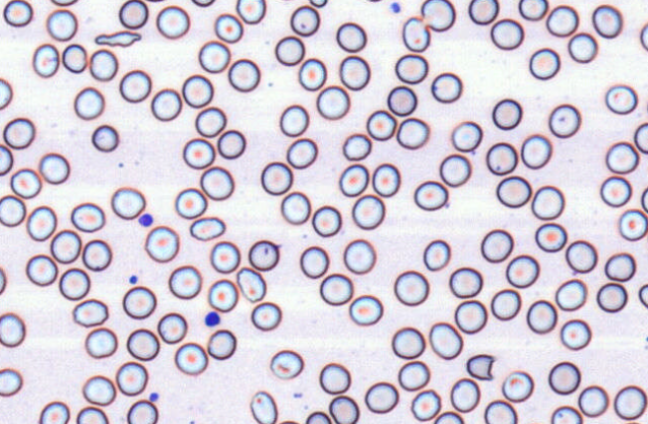PLT: (204, 312, 222, 328), (137, 212, 154, 227), (129, 272, 140, 285), (389, 4, 401, 15), (150, 392, 161, 402)
RBC: (144, 225, 179, 262), (428, 322, 462, 359), (393, 270, 428, 305), (613, 384, 647, 420), (199, 166, 234, 200), (505, 254, 539, 288), (122, 285, 156, 319), (351, 194, 384, 229), (531, 185, 564, 220), (115, 361, 148, 396), (548, 103, 581, 138), (495, 175, 531, 207), (343, 238, 375, 274), (454, 299, 487, 333), (391, 326, 425, 359), (227, 58, 260, 92), (156, 5, 189, 39), (316, 85, 349, 119), (480, 228, 513, 262), (605, 141, 639, 174), (111, 186, 145, 219), (168, 265, 201, 299), (545, 4, 578, 37), (174, 342, 207, 375), (364, 381, 398, 413), (490, 18, 524, 50), (181, 74, 213, 108), (439, 153, 471, 187), (319, 273, 353, 305), (260, 161, 292, 195), (485, 141, 517, 175), (565, 239, 597, 273), (420, 0, 455, 31), (520, 134, 551, 169), (339, 55, 370, 90), (236, 266, 266, 302), (26, 205, 56, 241), (449, 266, 482, 298), (119, 69, 151, 102), (548, 361, 580, 394), (182, 137, 215, 169), (58, 267, 90, 300), (150, 88, 182, 121), (198, 40, 230, 73), (2, 117, 35, 149), (396, 117, 429, 149), (555, 278, 587, 311), (126, 328, 159, 360), (526, 299, 557, 333), (348, 294, 382, 325), (394, 53, 428, 84), (591, 4, 622, 38), (207, 278, 238, 312), (50, 229, 81, 263), (450, 377, 480, 412), (413, 180, 448, 210), (401, 16, 430, 52), (72, 298, 108, 327), (501, 370, 533, 402), (25, 254, 57, 286), (600, 175, 632, 207), (397, 360, 430, 391), (338, 163, 369, 196), (174, 187, 207, 218), (46, 8, 77, 41), (529, 47, 560, 80), (84, 327, 117, 358), (73, 86, 104, 119), (209, 240, 240, 273), (82, 375, 116, 405), (269, 349, 303, 379), (70, 202, 104, 232), (371, 162, 400, 197), (410, 389, 441, 421), (319, 362, 350, 394), (490, 288, 521, 320), (560, 318, 591, 350), (194, 106, 226, 137), (248, 239, 279, 271), (577, 385, 608, 417), (430, 72, 462, 103), (38, 152, 69, 184), (451, 120, 482, 152), (491, 98, 522, 130), (280, 191, 310, 224), (534, 222, 567, 252), (299, 245, 329, 278), (386, 85, 417, 116), (286, 137, 317, 168), (279, 104, 309, 136), (605, 84, 637, 114), (618, 208, 647, 241), (89, 48, 118, 81), (298, 57, 326, 91), (10, 168, 41, 198), (366, 109, 396, 140), (567, 32, 597, 63), (290, 5, 320, 36), (336, 21, 366, 52), (311, 205, 341, 236), (157, 312, 187, 343), (596, 282, 627, 312), (604, 252, 636, 281), (82, 239, 111, 271), (249, 390, 277, 423), (32, 43, 59, 77), (189, 216, 225, 241), (274, 35, 304, 65), (250, 301, 281, 330), (0, 312, 25, 347), (214, 13, 243, 43), (118, 0, 148, 29), (216, 129, 245, 159), (207, 329, 236, 359), (328, 395, 359, 423), (422, 239, 450, 270), (0, 194, 25, 226), (484, 399, 517, 423), (342, 133, 371, 160), (61, 43, 87, 73), (468, 0, 499, 25), (126, 399, 158, 423), (91, 124, 118, 152), (3, 0, 32, 26), (236, 0, 265, 24), (38, 401, 69, 423), (0, 367, 22, 396), (518, 0, 548, 20), (550, 405, 582, 423), (76, 406, 108, 423), (0, 144, 13, 175), (634, 122, 647, 153), (0, 77, 12, 109), (433, 411, 463, 423), (305, 411, 331, 423), (638, 283, 648, 308), (640, 186, 648, 213), (640, 22, 647, 51), (190, 0, 215, 7), (0, 265, 6, 294), (50, 0, 78, 6), (308, 0, 327, 7), (277, 419, 300, 423), (645, 95, 648, 116), (143, 0, 168, 2), (361, 0, 385, 2)
Schistocyte: (465, 354, 496, 381), (95, 31, 142, 47)
